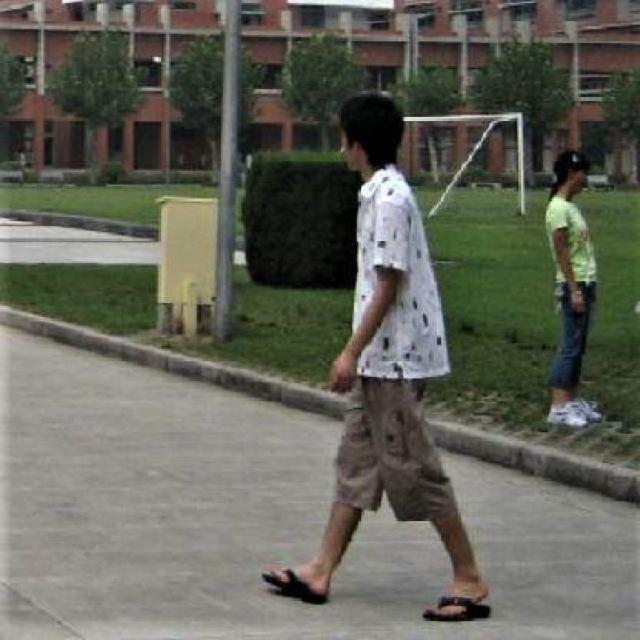Person: (258, 83, 498, 626), (536, 142, 618, 442)
